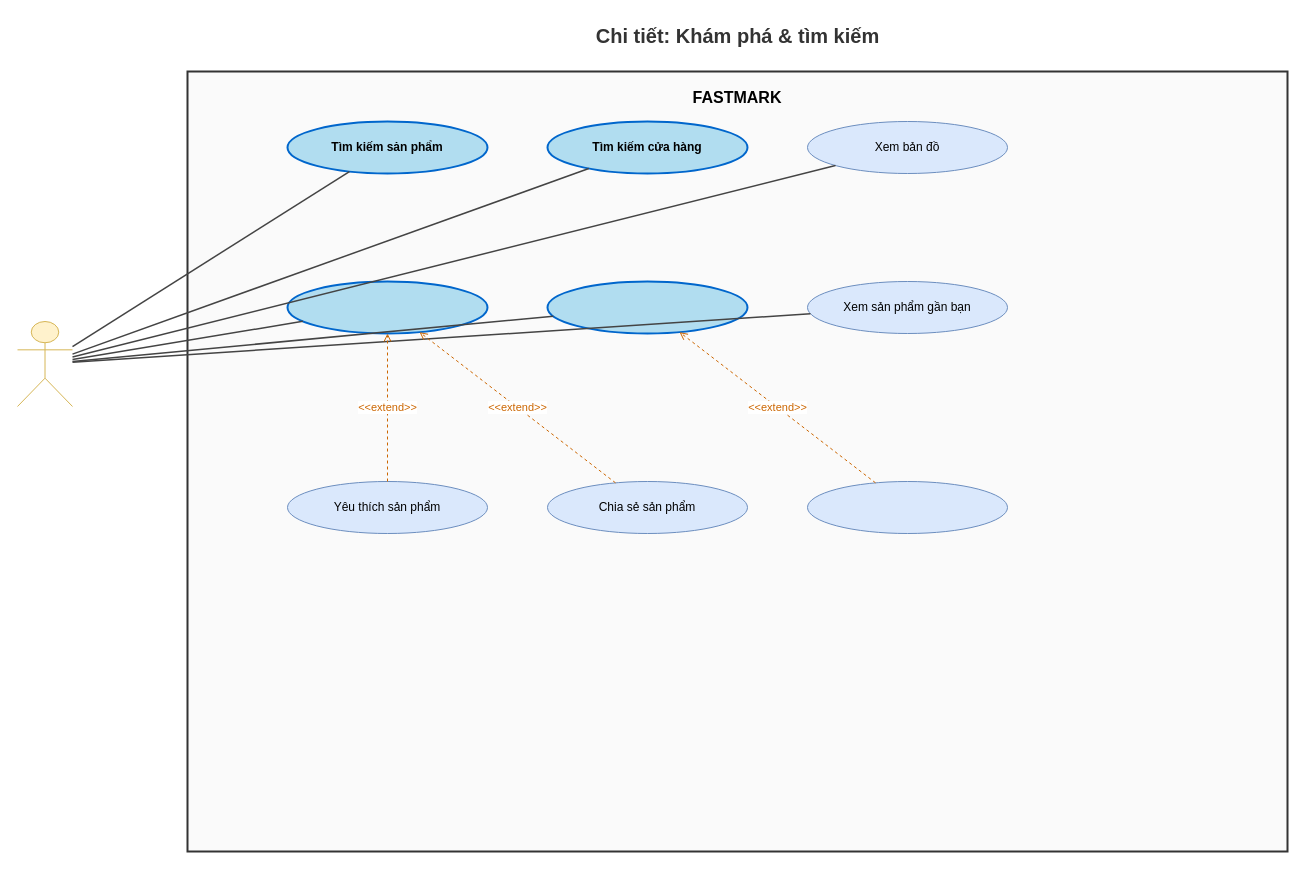
The diagram is 1306 pixels wide and 869 high, and some of its shapes have lost their labels. Each missing label, with the centre of its shape:
"Theo dõi cửa hàng" goes at point 907,507.
"User" goes at point 44,363.
"Xem cửa hàng" goes at point 647,307.
"Xem sản phẩm" goes at point 387,307.
